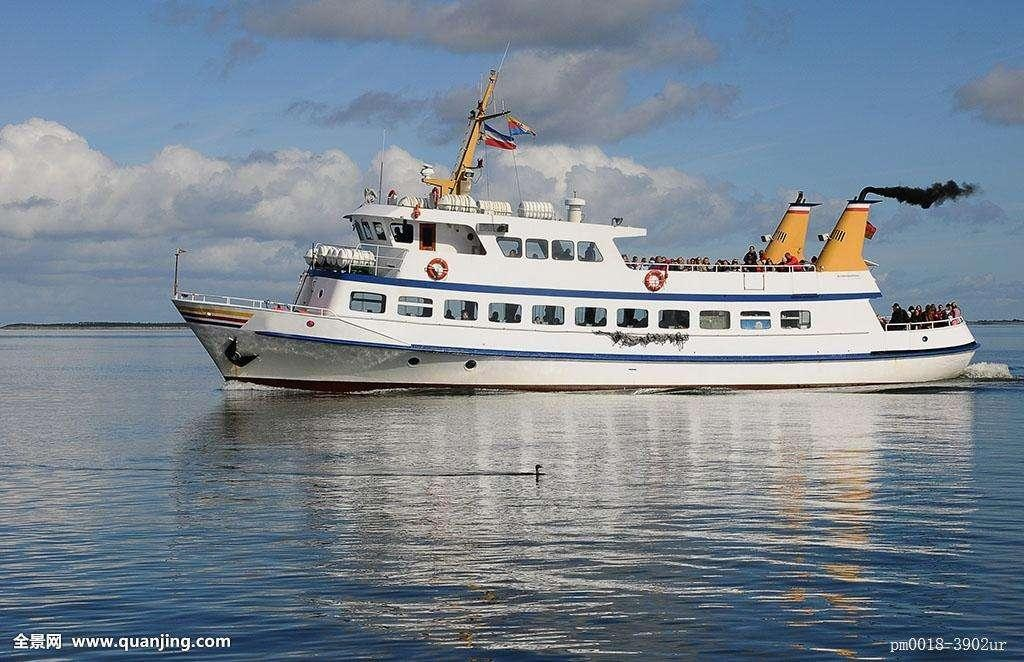otherboat: (169, 47, 1022, 412)
